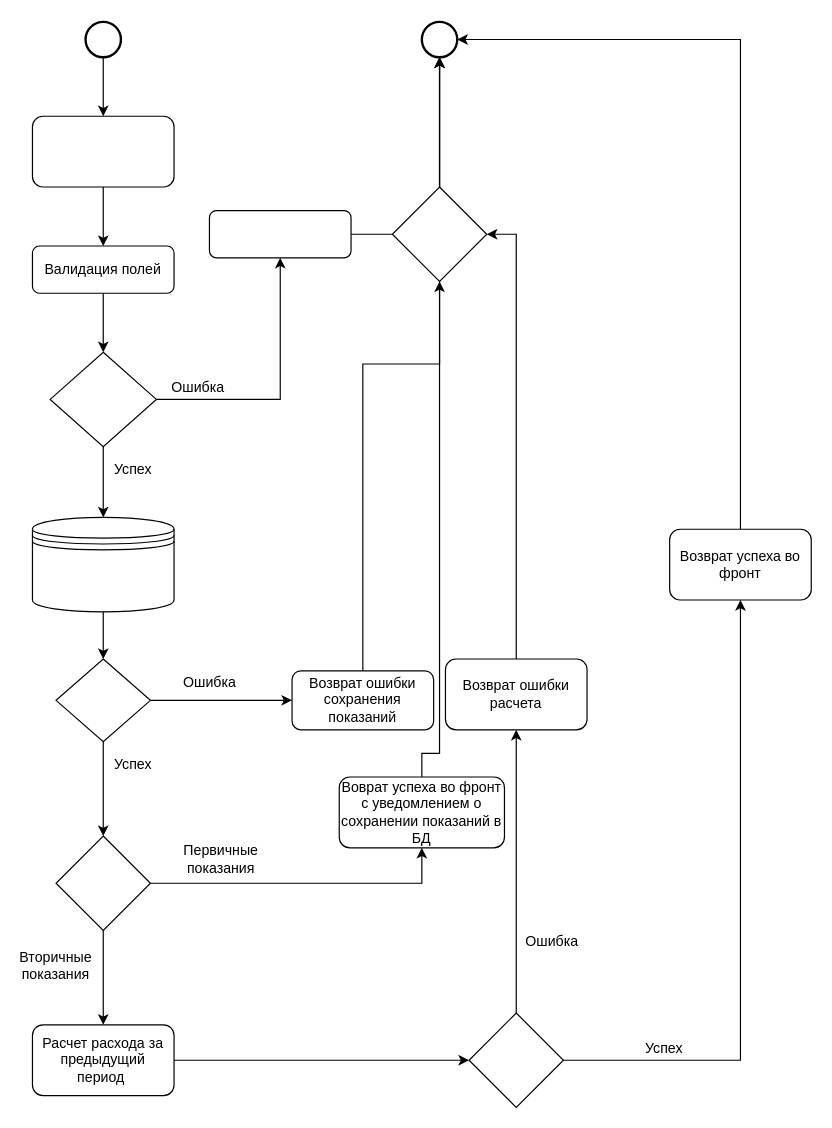
This 832x1128 diagram has some shape labels left out. Each missing label, with the centre of its shape:
Возврат ошибки валидации: the point at 279,233
Запрос на сохранения показаний: the point at 102,151
Сохранение показаний в БД: the point at 102,564
